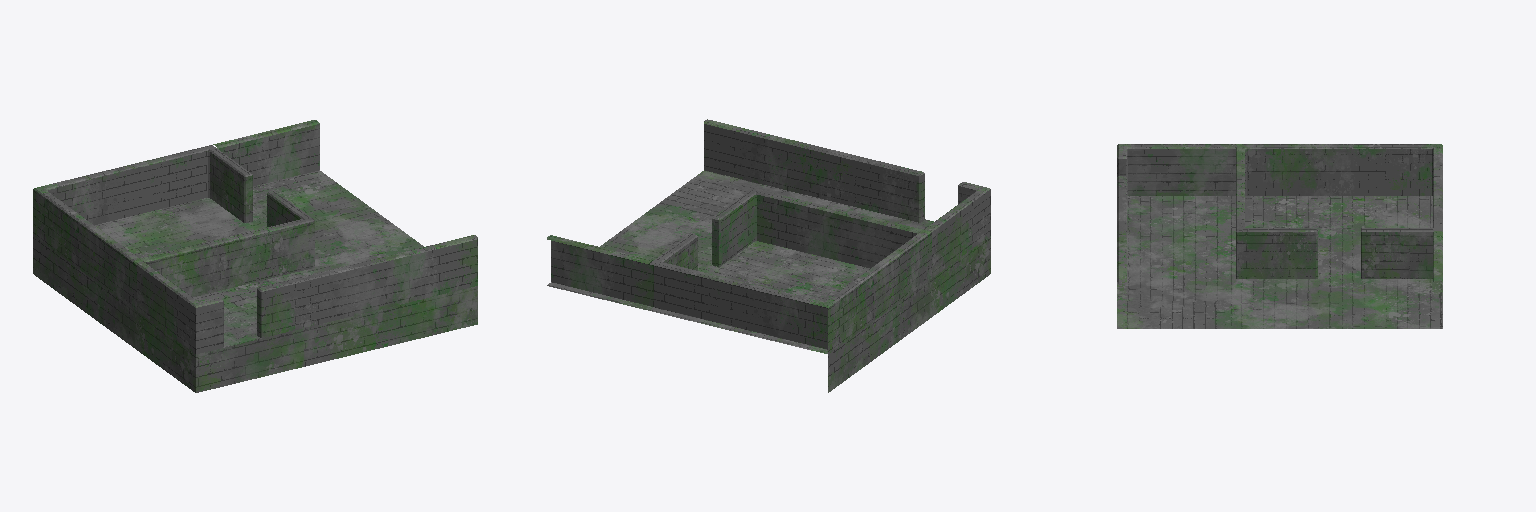
3 views of the same model, side by side, from view 1: azimuth 30°, elevation 25°; view 2: azimuth 150°, elevation 25°; view 3: azimuth 270°, elevation 25° (orthographic).
Visible parts, largest first — view 1: Cube.153, Cube.155, Cube.157, Cube.156; view 2: Cube.155, Cube.153, Cube.157, Cube.156; view 3: Cube.153, Cube.155, Cube.157.
Boxes of the visible parts, x1=… form: Cube.153: x1=33, y1=170, x2=477, y2=392; Cube.155: x1=33, y1=145, x2=314, y2=353; Cube.157: x1=257, y1=235, x2=477, y2=337; Cube.156: x1=213, y1=120, x2=319, y2=185; Cube.155: x1=649, y1=182, x2=990, y2=353; Cube.153: x1=547, y1=170, x2=990, y2=392; Cube.157: x1=704, y1=119, x2=924, y2=222; Cube.156: x1=547, y1=235, x2=653, y2=306; Cube.153: x1=1117, y1=196, x2=1442, y2=328; Cube.155: x1=1117, y1=144, x2=1442, y2=278; Cube.157: x1=1117, y1=176, x2=1126, y2=328.
Bounding box in the file's own units: 99.4 × 29 × 99.
3 materials, 2 textured.